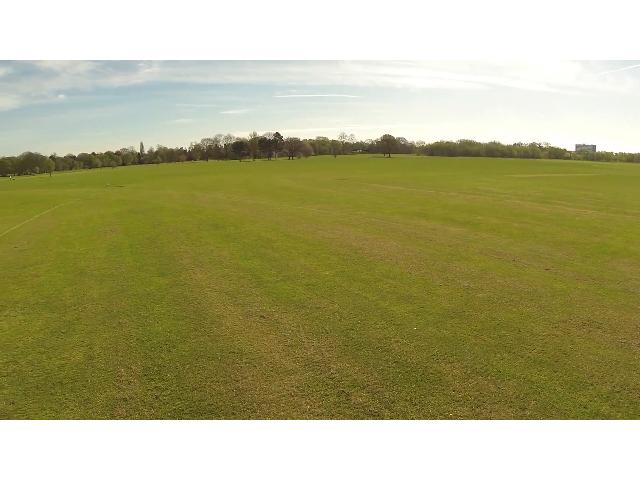Anti-Drone: (348, 145, 374, 158)
